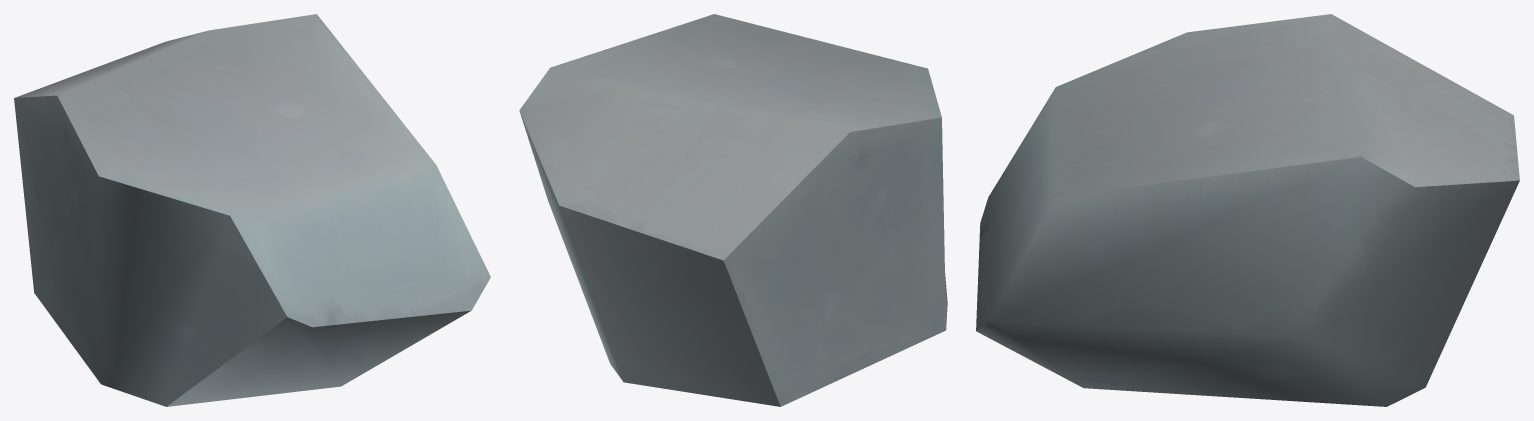
File: Pfb_Stone_01_6_Terrain.fbx
3 renders of one model, left to right at view 1: azimuth 30°, elevation 25°; view 2: azimuth 150°, elevation 25°; view 3: azimuth 270°, elevation 25°, orthographic. The views are drawn at different scales.
Visible parts, largest first — view 1: Mat_Stone_01 4; view 2: Mat_Stone_01 4; view 3: Mat_Stone_01 4.
Part boxes in pixels (x1=…): Mat_Stone_01 4: x1=14, y1=14, x2=490, y2=406; Mat_Stone_01 4: x1=519, y1=14, x2=947, y2=406; Mat_Stone_01 4: x1=976, y1=14, x2=1519, y2=406.
Size of the model in its own units: 0.6451 by 0.4991 by 0.8451.
Materials: 1 (1 with a texture image).
